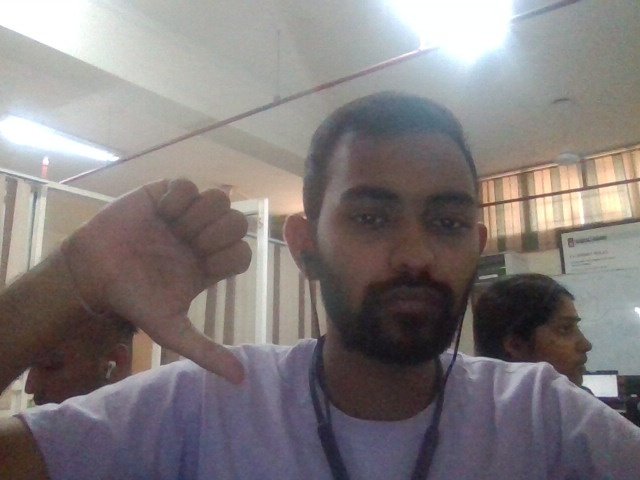No: (65, 176, 254, 386)
